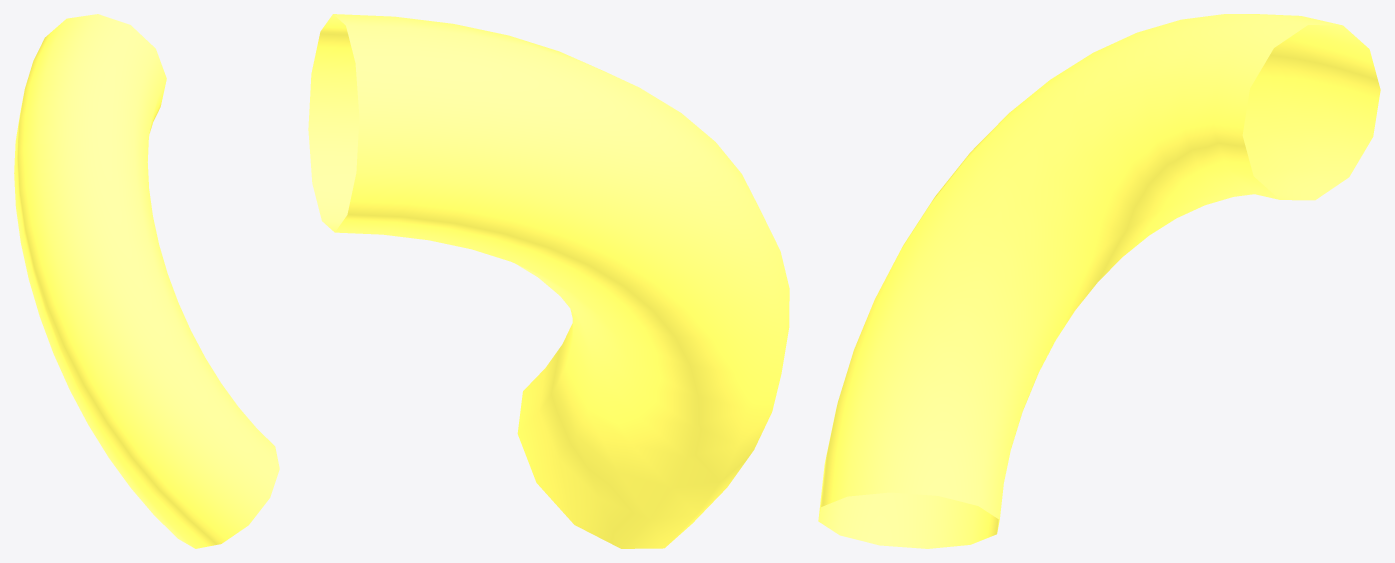
The picture shows the model from 3 angles, left to right: view 1: azimuth 30°, elevation 25°; view 2: azimuth 150°, elevation 25°; view 3: azimuth 270°, elevation 25°; orthographic projection. The views are drawn at different scales.
Visible parts, largest first — view 1: Torus.001; view 2: Torus.001; view 3: Torus.001.
Part boxes in pixels (<box>): Torus.001: <box>14,14,279,548</box>; Torus.001: <box>308,14,789,548</box>; Torus.001: <box>818,14,1380,548</box>.
Size of the model in its own units: 0.7408 by 1.47 by 1.33.
